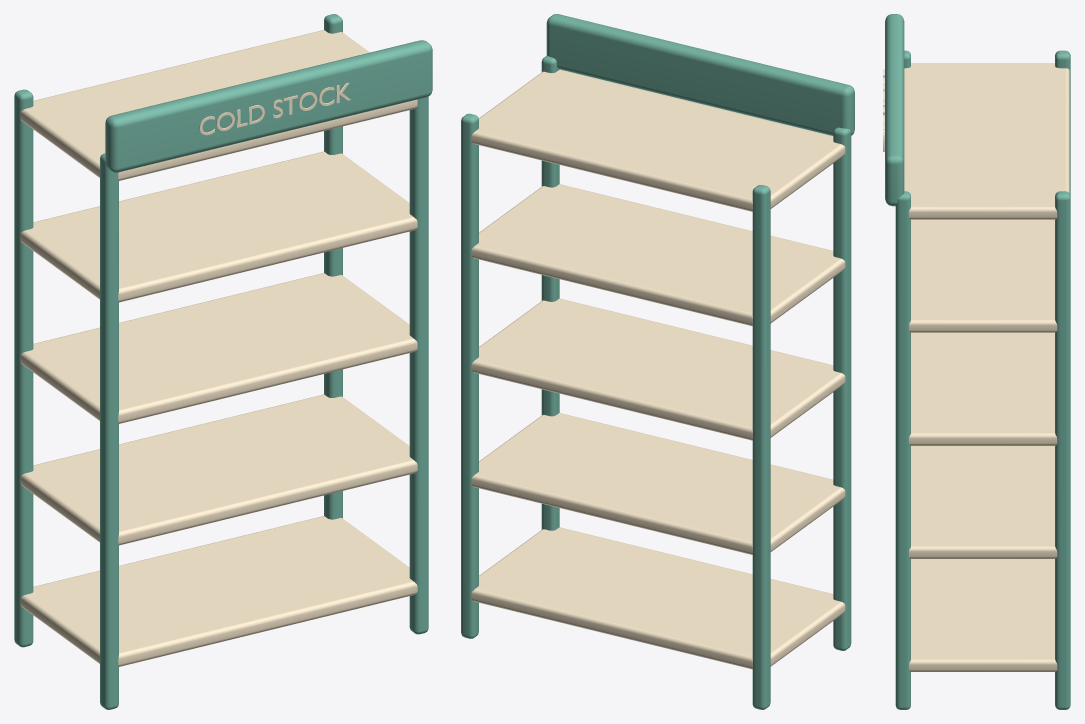
File: 8_slot_cold_rack.fbx
3 renders of one model, left to right at view 1: azimuth 30°, elevation 25°; view 2: azimuth 150°, elevation 25°; view 3: azimuth 270°, elevation 25°, orthographic. The views are drawn at different scales.
Visible parts, largest first — view 1: Toon_8_slot_cold_rack Rack shelf.006, Toon_8_slot_cold_rack Rack shelf.008, Toon_8_slot_cold_rack Rack shelf.005, Toon_8_slot_cold_rack Rack shelf.007, Toon_8_slot_cold_rack Rack header.001, Toon_8_slot_cold_rack Rack shelf.009, Toon_8_slot_cold_rack Rack upright.004, Toon_8_slot_cold_rack Rack upright.006, Toon_8_slot_cold_rack Rack upright.005, Toon_8_slot_cold_rack Rack upright.007, Rack name.003; view 2: Toon_8_slot_cold_rack Rack shelf.009, Toon_8_slot_cold_rack Rack shelf.008, Toon_8_slot_cold_rack Rack shelf.005, Toon_8_slot_cold_rack Rack shelf.007, Toon_8_slot_cold_rack Rack shelf.006, Toon_8_slot_cold_rack Rack header.001, Toon_8_slot_cold_rack Rack upright.005, Toon_8_slot_cold_rack Rack upright.004, Toon_8_slot_cold_rack Rack upright.007, Toon_8_slot_cold_rack Rack upright.006; view 3: Toon_8_slot_cold_rack Rack shelf.009, Toon_8_slot_cold_rack Rack shelf.007, Toon_8_slot_cold_rack Rack shelf.008, Toon_8_slot_cold_rack Rack shelf.005, Toon_8_slot_cold_rack Rack shelf.006, Toon_8_slot_cold_rack Rack upright.007, Toon_8_slot_cold_rack Rack upright.006, Toon_8_slot_cold_rack Rack header.001, Toon_8_slot_cold_rack Rack upright.005.
Part boxes in pixels (left/top/right/bottom): Toon_8_slot_cold_rack Rack shelf.006: left=20, top=394, right=417, bottom=545; Toon_8_slot_cold_rack Rack shelf.008: left=20, top=151, right=417, bottom=302; Toon_8_slot_cold_rack Rack shelf.005: left=20, top=516, right=417, bottom=666; Toon_8_slot_cold_rack Rack shelf.007: left=20, top=273, right=417, bottom=423; Toon_8_slot_cold_rack Rack header.001: left=105, top=40, right=432, bottom=172; Toon_8_slot_cold_rack Rack shelf.009: left=20, top=30, right=417, bottom=180; Toon_8_slot_cold_rack Rack upright.004: left=100, top=153, right=118, bottom=709; Toon_8_slot_cold_rack Rack upright.006: left=409, top=96, right=428, bottom=634; Toon_8_slot_cold_rack Rack upright.005: left=14, top=89, right=33, bottom=647; Toon_8_slot_cold_rack Rack upright.007: left=324, top=14, right=342, bottom=519; Rack name.003: left=199, top=82, right=350, bottom=135; Toon_8_slot_cold_rack Rack shelf.009: left=471, top=69, right=845, bottom=211; Toon_8_slot_cold_rack Rack shelf.008: left=471, top=184, right=845, bottom=326; Toon_8_slot_cold_rack Rack shelf.005: left=471, top=527, right=845, bottom=669; Toon_8_slot_cold_rack Rack shelf.007: left=471, top=298, right=845, bottom=440; Toon_8_slot_cold_rack Rack shelf.006: left=471, top=413, right=845, bottom=554; Toon_8_slot_cold_rack Rack header.001: left=546, top=14, right=854, bottom=135; Toon_8_slot_cold_rack Rack upright.005: left=752, top=185, right=770, bottom=709; Toon_8_slot_cold_rack Rack upright.004: left=833, top=127, right=851, bottom=650; Toon_8_slot_cold_rack Rack upright.007: left=461, top=113, right=478, bottom=638; Toon_8_slot_cold_rack Rack upright.006: left=541, top=55, right=559, bottom=530; Toon_8_slot_cold_rack Rack shelf.009: left=904, top=63, right=1069, bottom=219; Toon_8_slot_cold_rack Rack shelf.007: left=909, top=332, right=1057, bottom=445; Toon_8_slot_cold_rack Rack shelf.008: left=909, top=219, right=1057, bottom=332; Toon_8_slot_cold_rack Rack shelf.005: left=909, top=559, right=1057, bottom=671; Toon_8_slot_cold_rack Rack shelf.006: left=909, top=446, right=1057, bottom=558; Toon_8_slot_cold_rack Rack upright.007: left=1055, top=191, right=1070, bottom=709; Toon_8_slot_cold_rack Rack upright.006: left=895, top=191, right=910, bottom=709; Toon_8_slot_cold_rack Rack header.001: left=885, top=14, right=904, bottom=206; Toon_8_slot_cold_rack Rack upright.005: left=1055, top=50, right=1070, bottom=195.
Size of the model in its own units: 100 by 176 by 54.01.
